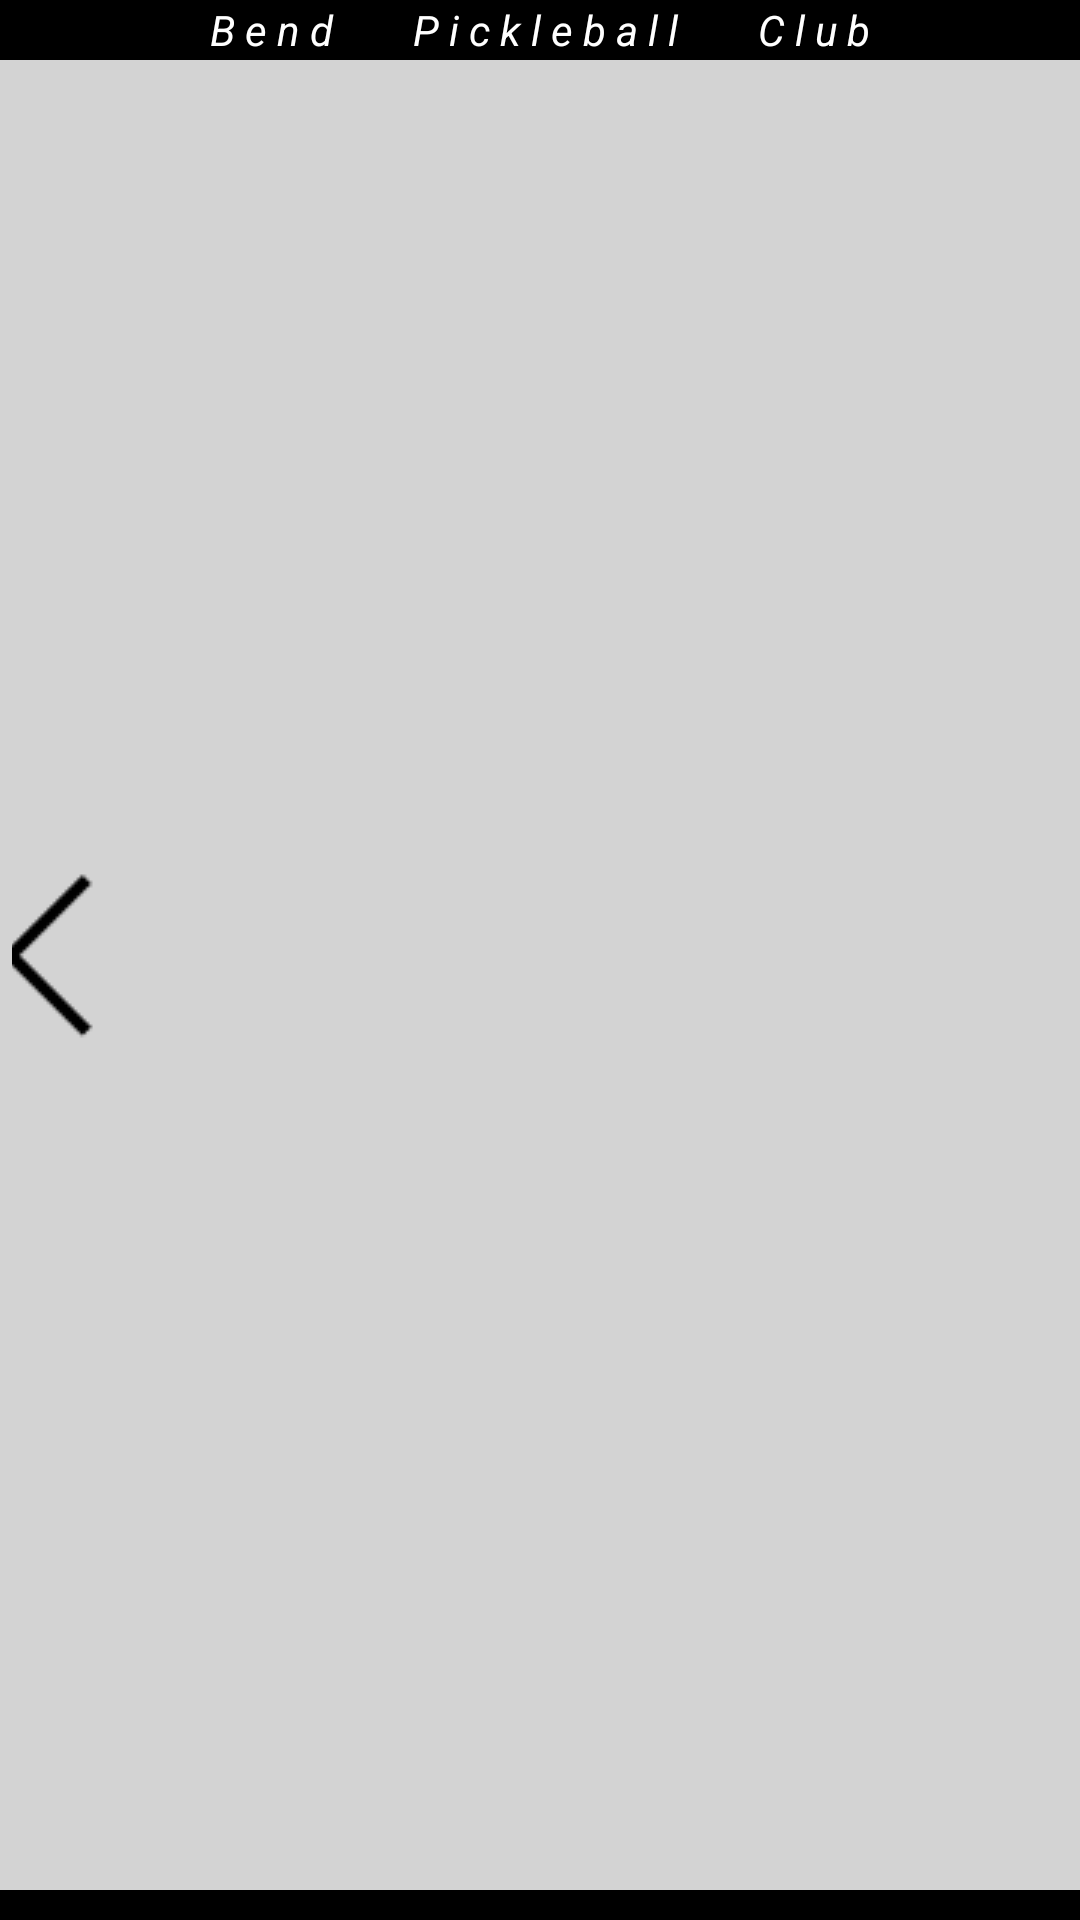

Where to tap for icons on this 1080w x 1920h app screen, as [x,y]:
back: [52,955]
